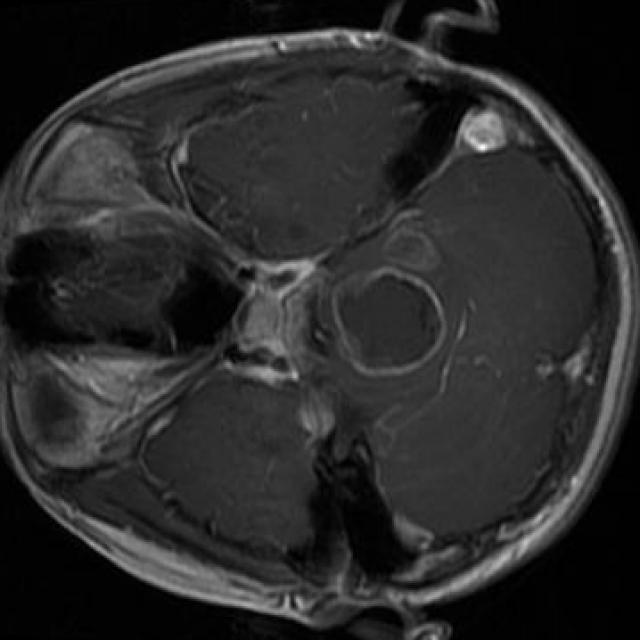glioma: (328, 266, 447, 380)
